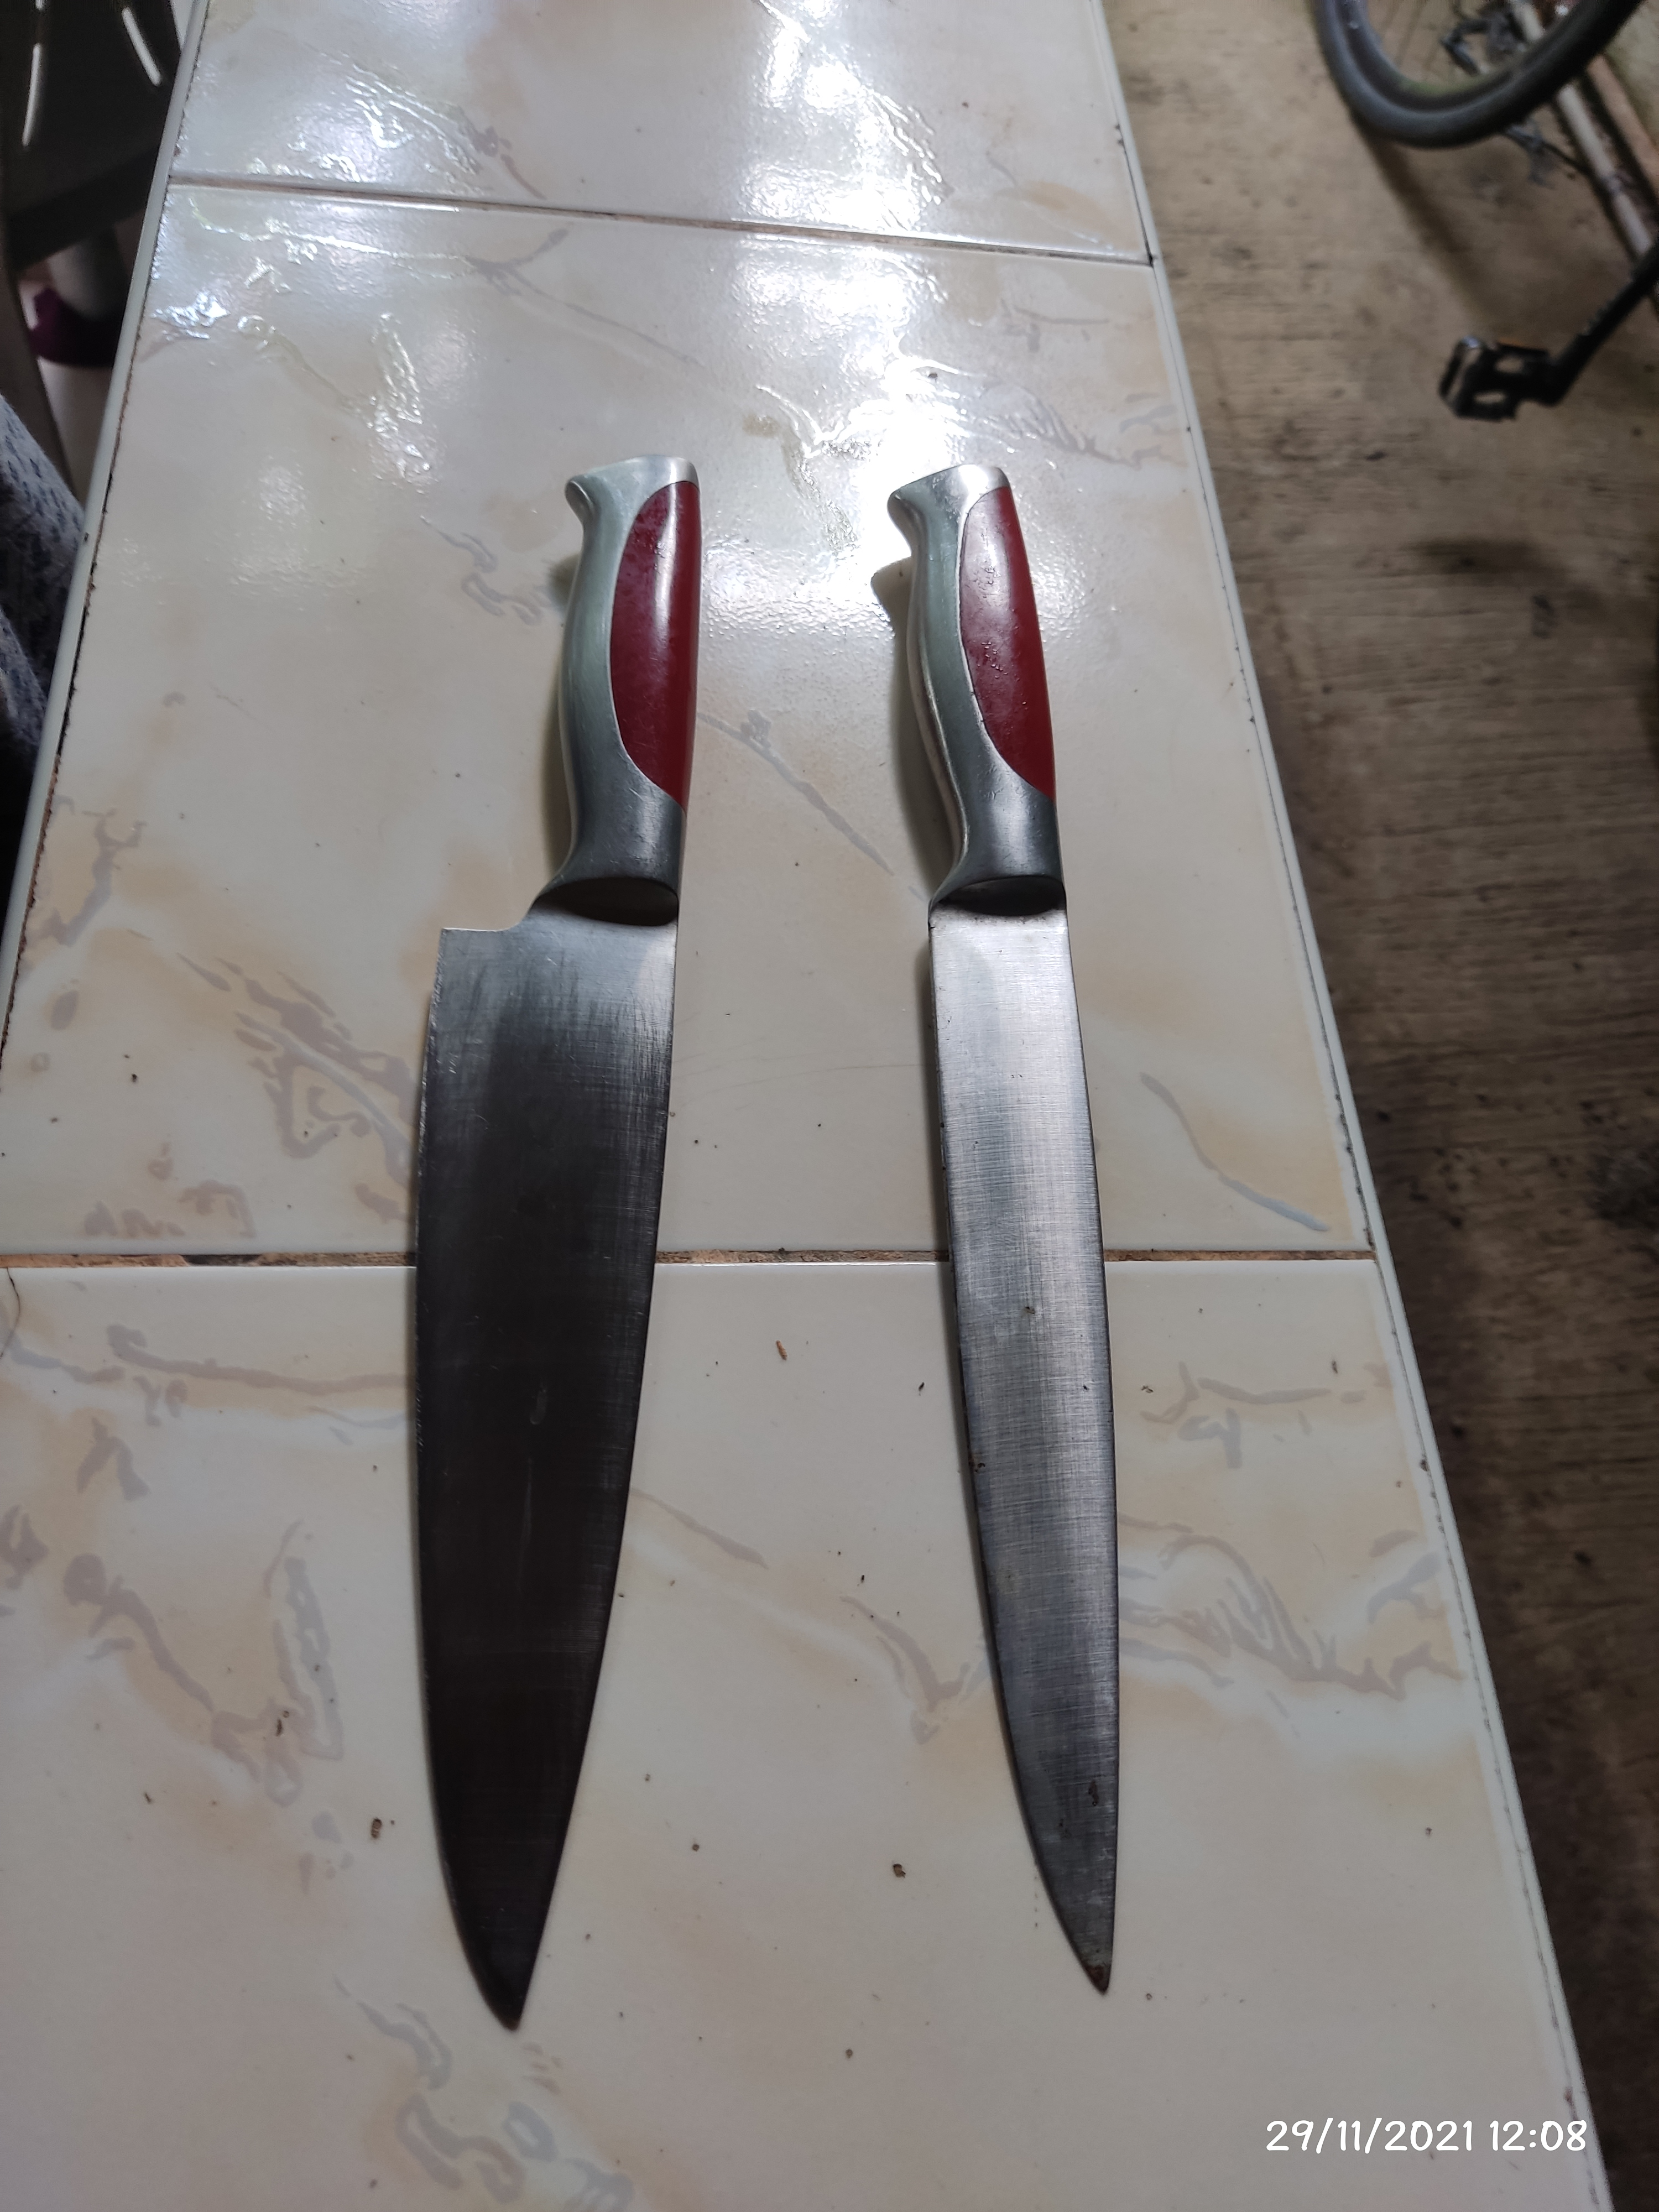knife: (413, 458, 695, 2040), (875, 462, 1122, 1994)
